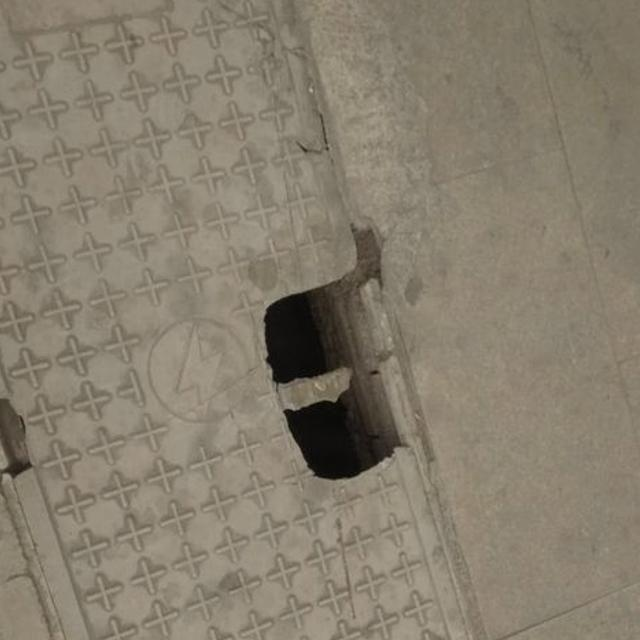broke: (0, 25, 565, 640)
